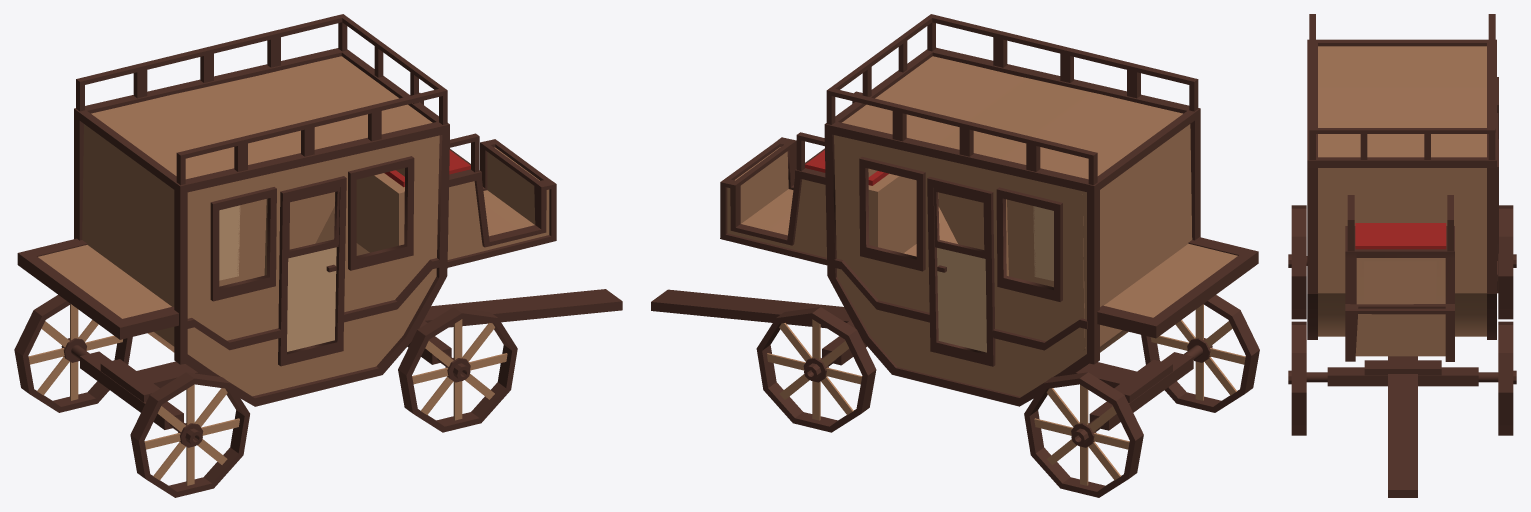
Rendered from Carraige.fbx.
3 renders of one model, left to right at view 1: azimuth 30°, elevation 25°; view 2: azimuth 150°, elevation 25°; view 3: azimuth 270°, elevation 25°, orthographic. The views are drawn at different scales.
Visible parts, largest first — view 1: pCube111; view 2: pCube111; view 3: pCube111.
Boxes of the visible parts, x1=… form: pCube111: x1=14, y1=14, x2=622, y2=497; pCube111: x1=651, y1=14, x2=1259, y2=497; pCube111: x1=1288, y1=14, x2=1516, y2=497.
Size of the model in its own units: 14.49 by 8.39 by 5.87.
